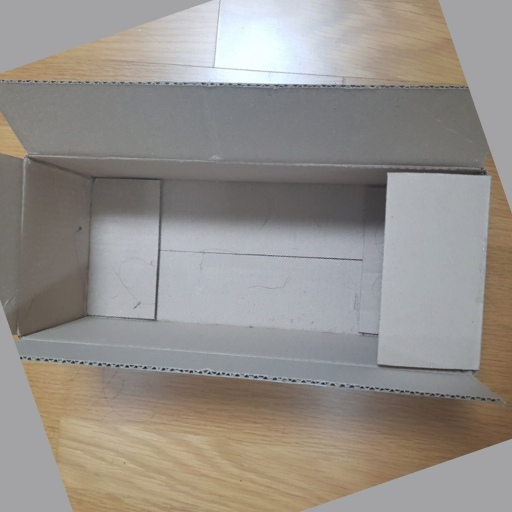Paper_0: (1, 69, 512, 407)
